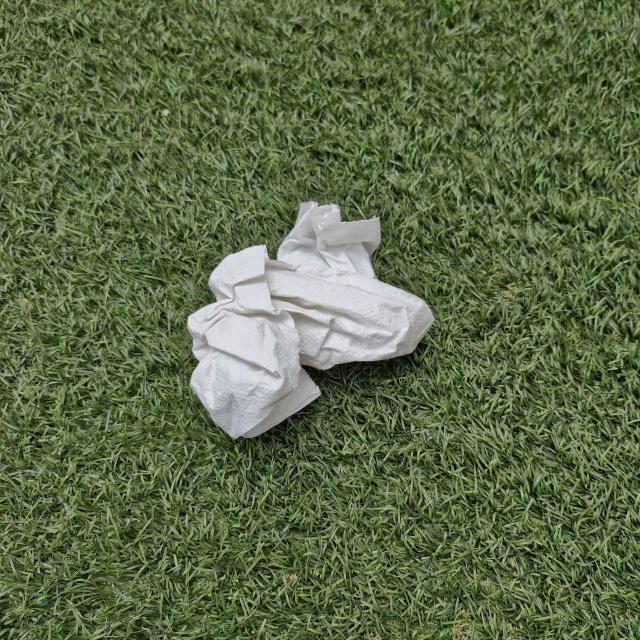paper: (183, 194, 439, 448)
